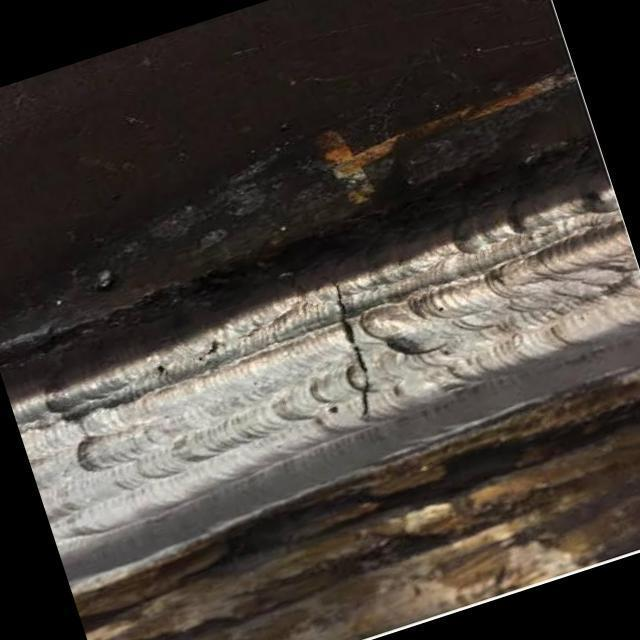defect: (328, 277, 375, 416)
